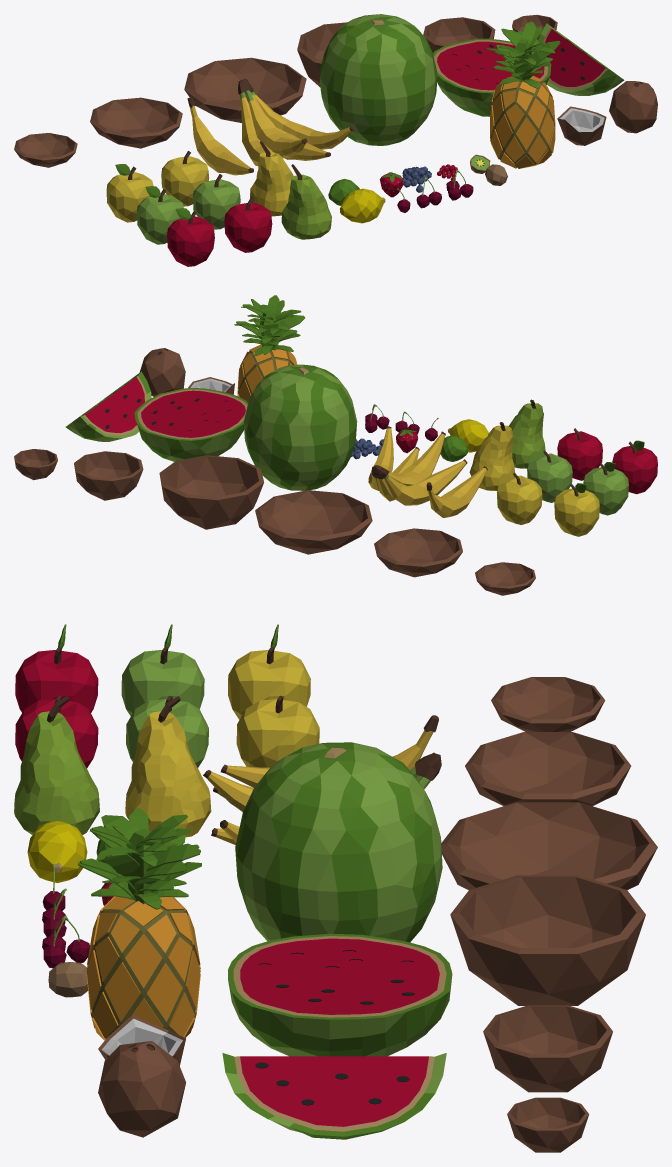
Rendered from fruits.fbx.
3 views of the same model, one above another, from view 1: azimuth 30°, elevation 25°; view 2: azimuth 150°, elevation 25°; view 3: azimuth 270°, elevation 25° (orthographic). The views are drawn at different scales.
Parts seen in each view (by area): view 1: watermelon, Cube.004, Icosphere.003, watermelon_half, Cube, Icosphere.004, watermelon_slice, pear, apple.003, Sphere.002, Cube.001, apple (+16 smaller); view 2: watermelon, watermelon_half, Icosphere, Icosphere.003, Cube.004, Cube, Icosphere.004, watermelon_slice, Icosphere.001, Cube.001, apple.005, apple.002 (+12 smaller); view 3: watermelon, watermelon_half, Cube.004, Icosphere, watermelon_slice, Icosphere.003, Icosphere.004, Icosphere.001, pear, Cube.001, Sphere.002, Icosphere.005 (+13 smaller).
Boxes of the visible parts, box(x1,y1,x2,y2) form: watermelon: box(319, 14, 437, 145); Cube.004: box(487, 21, 560, 168); Icosphere.003: box(184, 57, 306, 122); watermelon_half: box(433, 38, 551, 116); Cube: box(238, 78, 354, 166); Icosphere.004: box(90, 97, 182, 148); watermelon_slice: box(538, 23, 624, 95); pear: box(281, 164, 331, 239); apple.003: box(167, 208, 214, 266); Sphere.002: box(609, 81, 657, 133); Cube.001: box(250, 141, 293, 216); apple: box(224, 197, 272, 252); watermelon: box(243, 364, 357, 490); watermelon_half: box(134, 388, 248, 461); Icosphere: box(159, 455, 263, 529); Icosphere.003: box(255, 490, 372, 554); Cube.004: box(234, 295, 304, 401); Cube: box(368, 426, 467, 505); Icosphere.004: box(374, 528, 462, 577); watermelon_slice: box(65, 371, 151, 441); Icosphere.001: box(74, 451, 143, 500); Cube.001: box(469, 422, 514, 490); apple.005: box(554, 483, 599, 536); apple.002: box(497, 472, 542, 524); watermelon: box(235, 742, 442, 942); watermelon_half: box(228, 933, 452, 1056); Cube.004: box(78, 808, 201, 1040); Icosphere: box(450, 875, 645, 1005); watermelon_slice: box(222, 1053, 446, 1139); Icosphere.003: box(441, 802, 657, 889); Icosphere.004: box(465, 732, 631, 806); Icosphere.001: box(483, 1005, 612, 1092); pear: box(14, 696, 99, 834); Cube.001: box(125, 696, 211, 837); Sphere.002: box(98, 1041, 185, 1137); Icosphere.005: box(491, 677, 605, 731).
Bounding box in the file's own units: 1992 × 463 × 1183.
